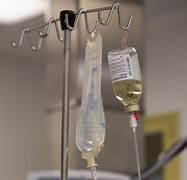Iv_Bottle: (76, 34, 104, 167), (108, 47, 141, 111)
Syringe: (129, 112, 140, 179)
